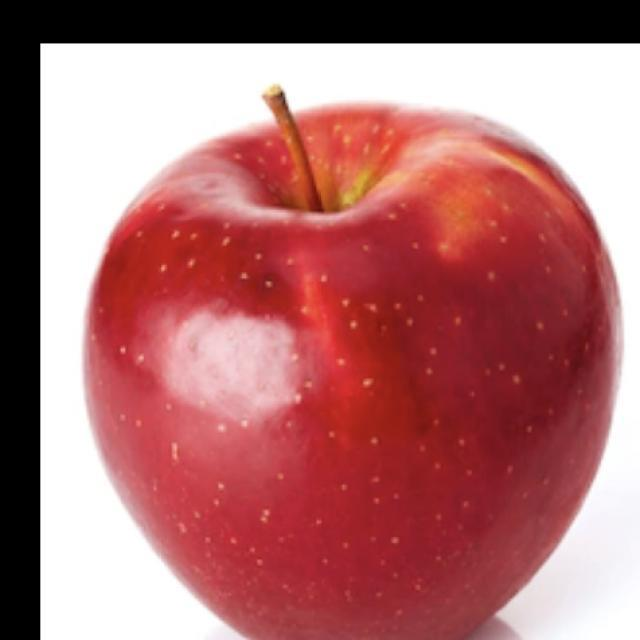Fresh Apple: (96, 110, 602, 640)
